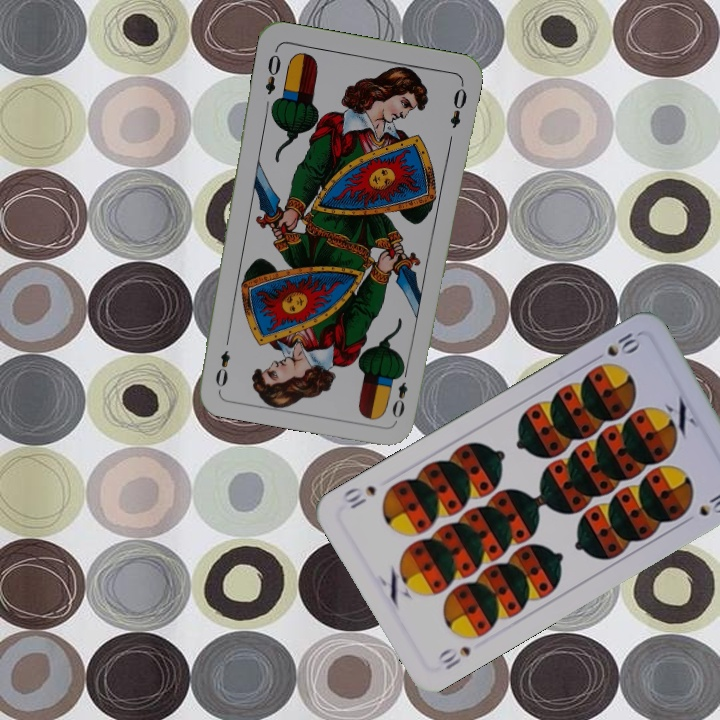EO: (388, 363, 411, 421), (261, 45, 283, 97)
S10: (588, 325, 644, 365), (433, 642, 473, 673)
